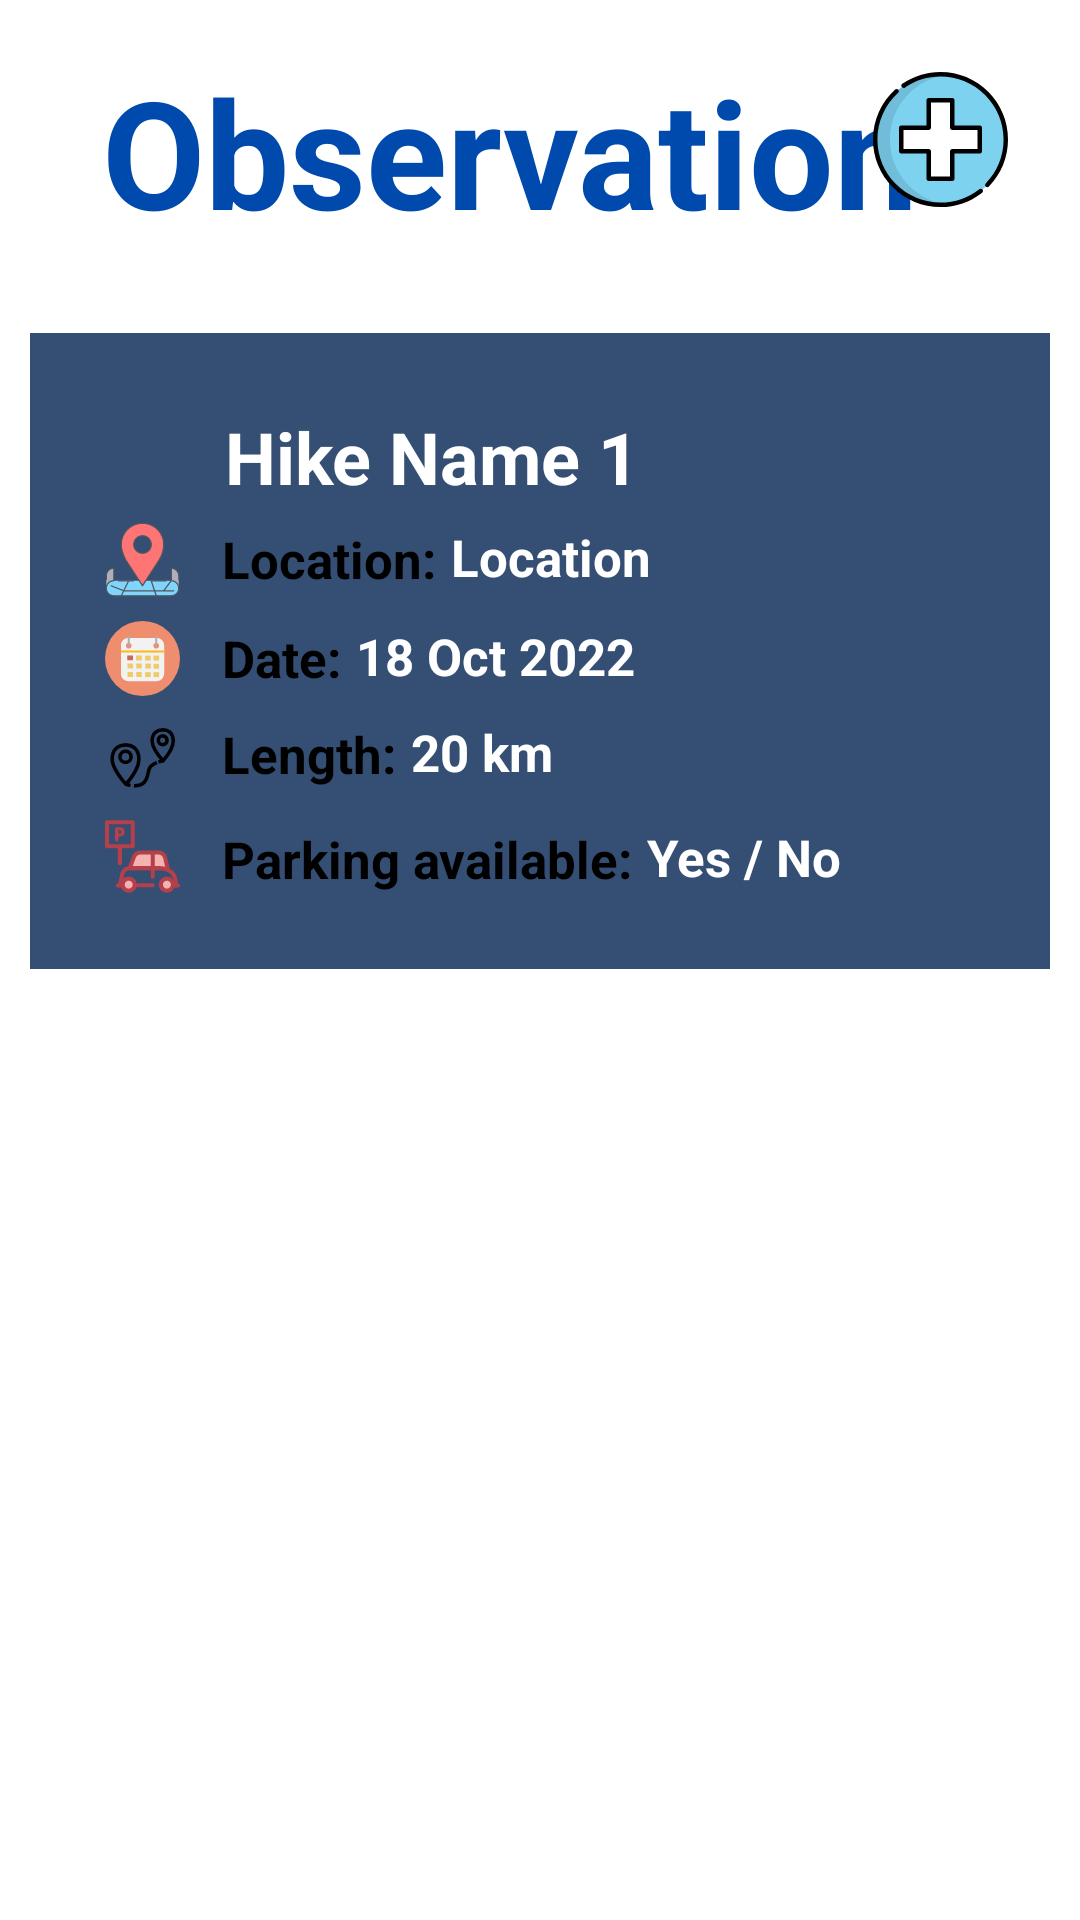

Icon click points for this 1080 x 1920 phone screenshot, format (x=x, y=y):
add plus: (x=940, y=139)
calendar: (x=142, y=658)
distance: (x=142, y=758)
